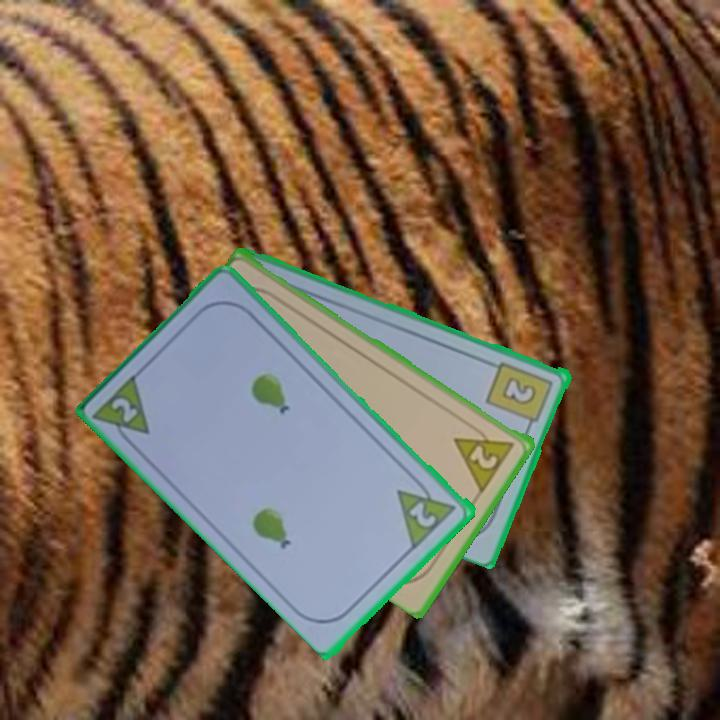2b: (483, 358, 557, 433)
2p: (90, 369, 154, 453), (394, 472, 461, 551), (451, 419, 518, 494)
